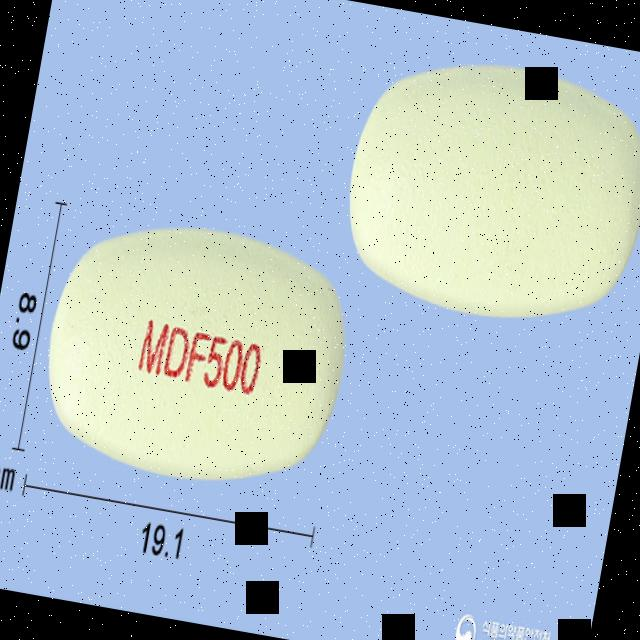Clarid - 500mg: (24, 194, 366, 510)
